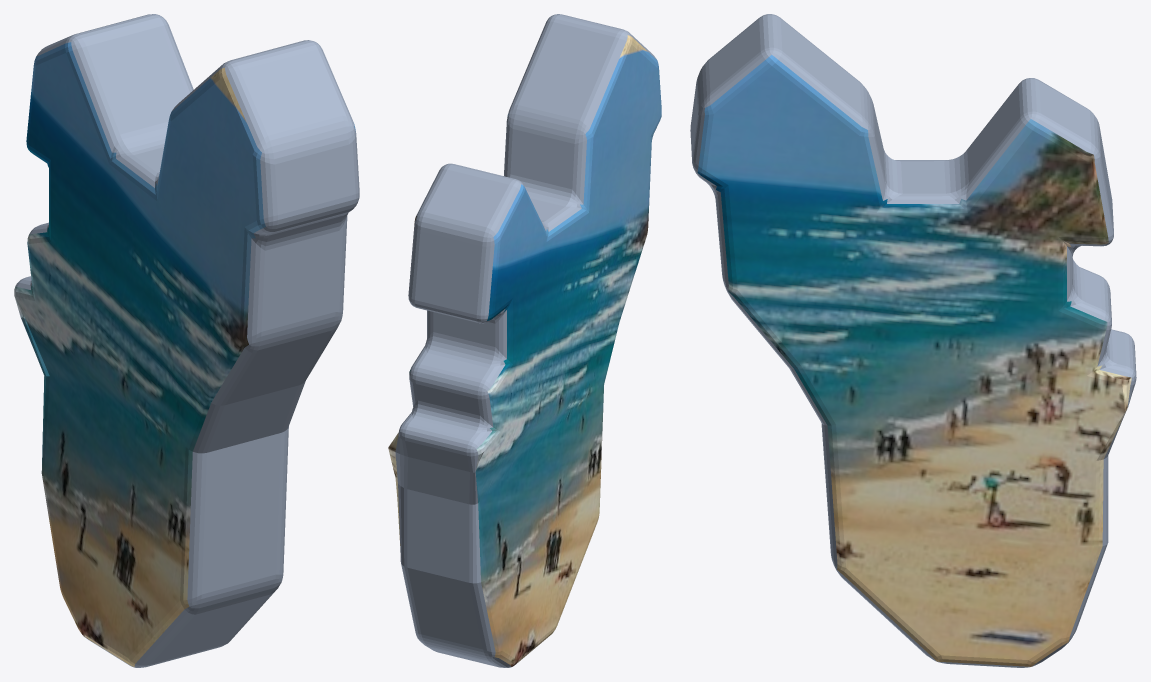
The model's file is goa.glb.
3 renders of one model, left to right at view 1: azimuth 30°, elevation 25°; view 2: azimuth 150°, elevation 25°; view 3: azimuth 270°, elevation 25°, orthographic. The views are drawn at different scales.
Visible parts, largest first — view 1: Object_40; view 2: Object_40; view 3: Object_40.
Part boxes in pixels (x1,y1,x2,y2): Object_40: (14, 14, 359, 667); Object_40: (388, 14, 661, 667); Object_40: (690, 14, 1136, 667).
Bounding box in the file's own units: 0.0272 × 0.145 × 0.0946.
Materials: 1 (1 with a texture image).
